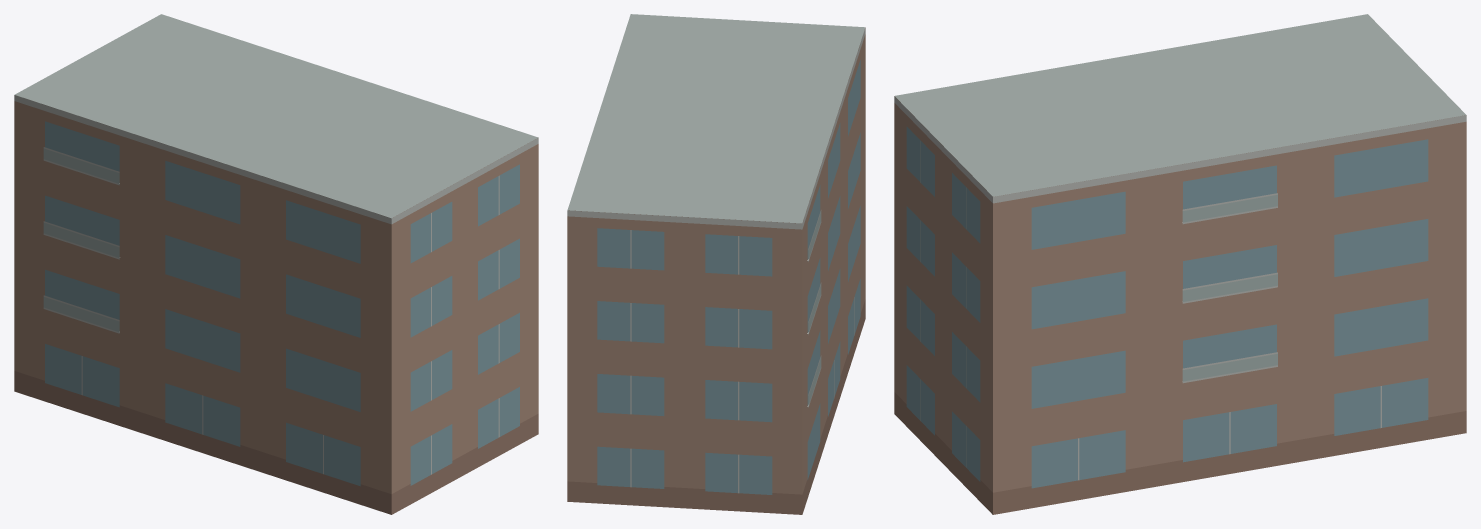
File: survey-upis-32716640.glb
The picture shows the model from 3 angles, left to right: view 1: azimuth 30°, elevation 25°; view 2: azimuth 150°, elevation 25°; view 3: azimuth 270°, elevation 25°; orthographic projection. The views are drawn at different scales.
Visible parts, largest first — view 1: survey-upis-32716640.tmp; view 2: survey-upis-32716640.tmp; view 3: survey-upis-32716640.tmp.
Boxes of the visible parts, box(x1,y1,x2,y2) form: survey-upis-32716640.tmp: box(14, 14, 538, 514); survey-upis-32716640.tmp: box(567, 14, 865, 514); survey-upis-32716640.tmp: box(894, 14, 1466, 514).
Size of the model in its own units: 14.44 by 11.7 by 19.09.
